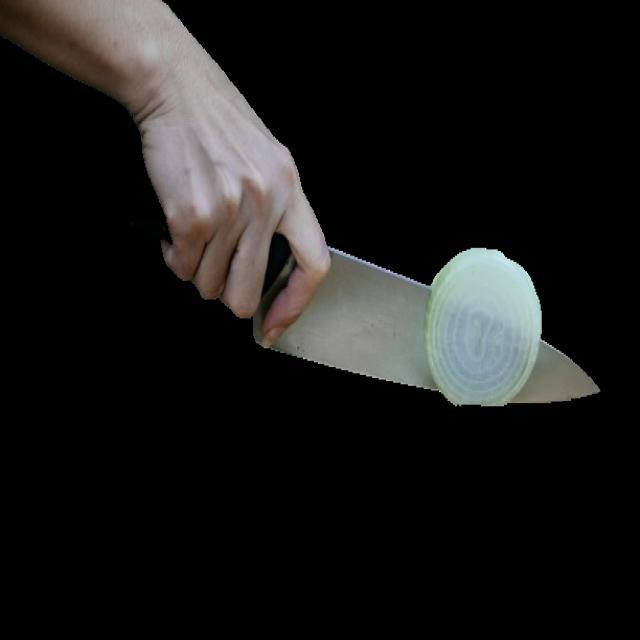knife: (135, 42, 602, 400)
